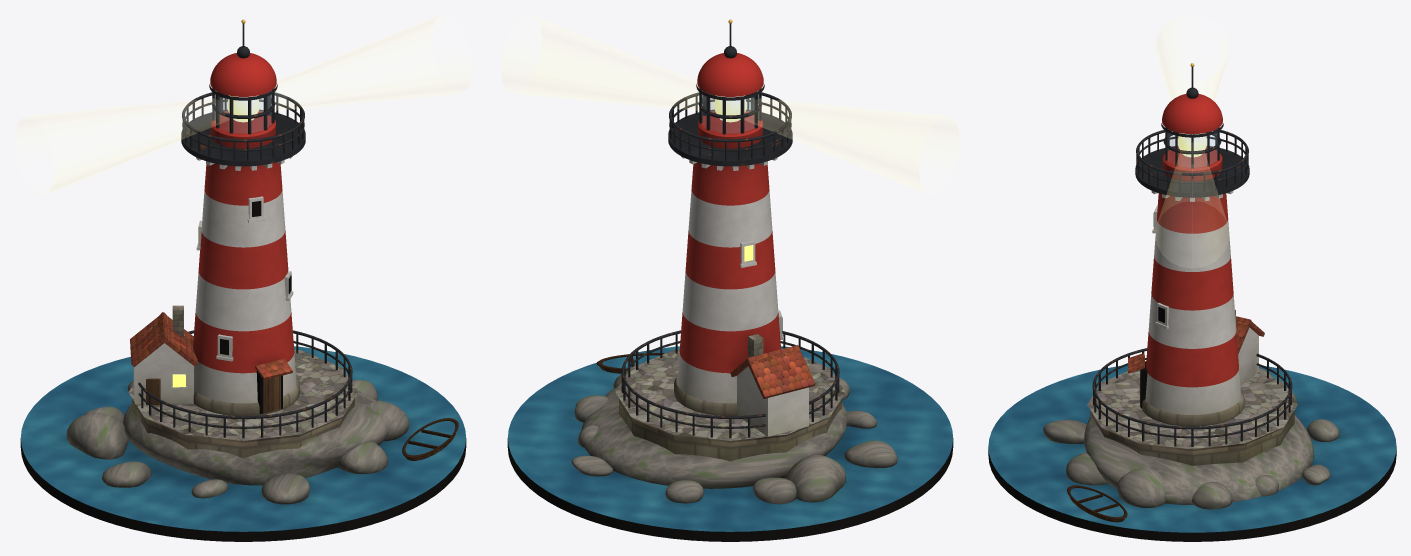
File: latarnia.glb
3 renders of one model, left to right at view 1: azimuth 30°, elevation 25°; view 2: azimuth 150°, elevation 25°; view 3: azimuth 270°, elevation 25°, orthographic. The views are drawn at different scales.
Parts seen in each view (by area): view 1: latarnia, snop_swiatla; view 2: latarnia, snop_swiatla; view 3: latarnia, snop_swiatla.
Boxes of the visible parts, x1=… form: latarnia: x1=20, y1=19, x2=466, y2=541; snop_swiatla: x1=29, y1=16, x2=456, y2=193; latarnia: x1=507, y1=19, x2=953, y2=541; snop_swiatla: x1=517, y1=16, x2=944, y2=193; latarnia: x1=988, y1=63, x2=1396, y2=541; snop_swiatla: x1=1158, y1=14, x2=1226, y2=267.
Size of the model in its own units: 1.3 by 1.28 by 1.2.
Materials: 17 (10 with a texture image).
